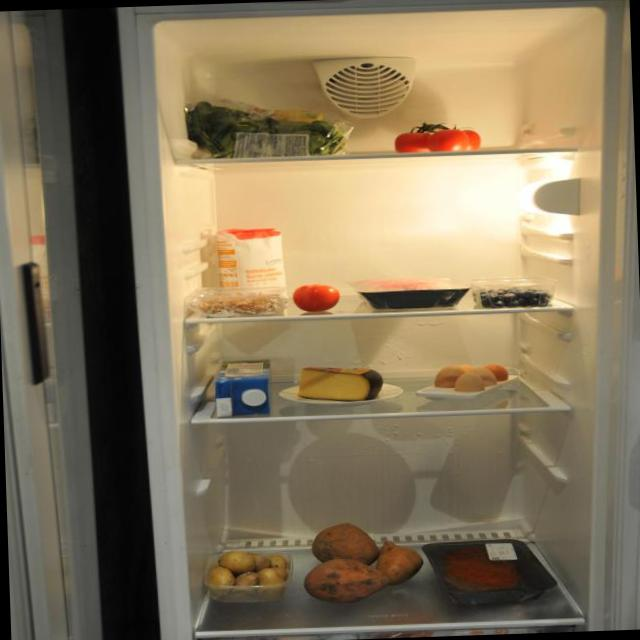Carne vacuno: (431, 536, 551, 598)
Gambas/Langostinos: (188, 286, 288, 325)
Huevos: (430, 358, 522, 396)
Leche: (214, 358, 274, 420)
Patata: (203, 546, 291, 604)
Queso: (294, 361, 382, 403)
Tomate: (396, 120, 484, 157), (294, 282, 343, 314)
